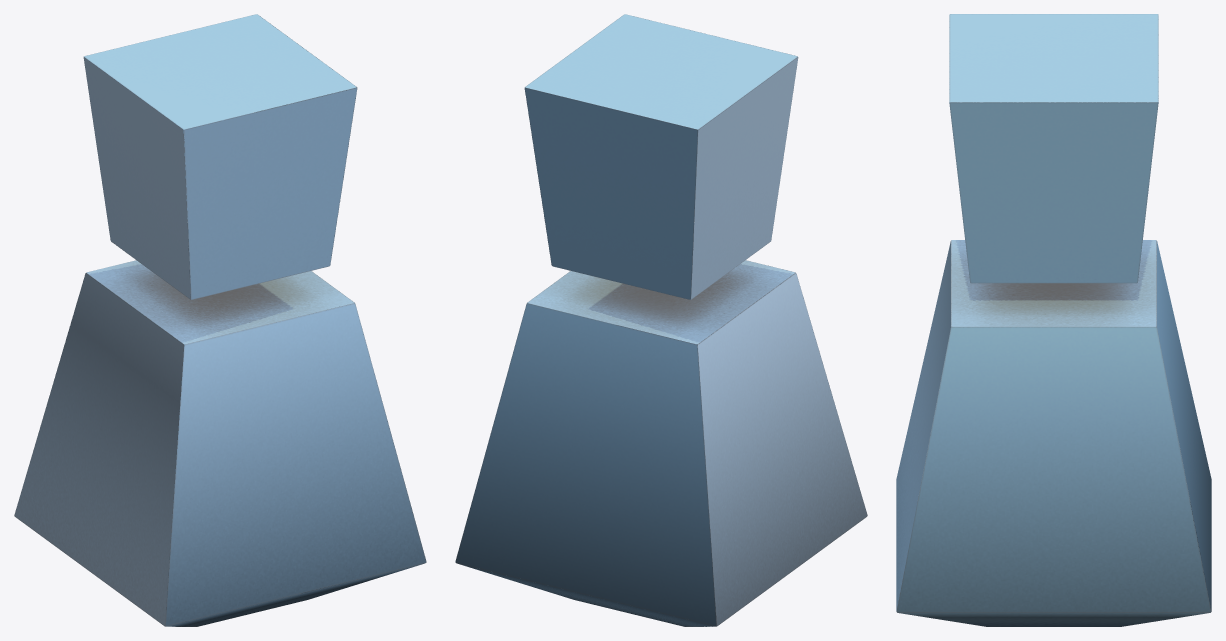
The model's file is PionWithoutSwordXX.FBX.
3 renders of one model, left to right at view 1: azimuth 30°, elevation 25°; view 2: azimuth 150°, elevation 25°; view 3: azimuth 270°, elevation 25°, orthographic. The views are drawn at different scales.
Parts seen in each view (by area): view 1: Box001; view 2: Box001; view 3: Box001.
Boxes of the visible parts, <box> form: Box001: <box>14,14,426,626</box>; Box001: <box>455,14,867,626</box>; Box001: <box>896,14,1211,626</box>.
Size of the model in its own units: 14.82 by 28.03 by 14.82.
1 material, 1 textured.
